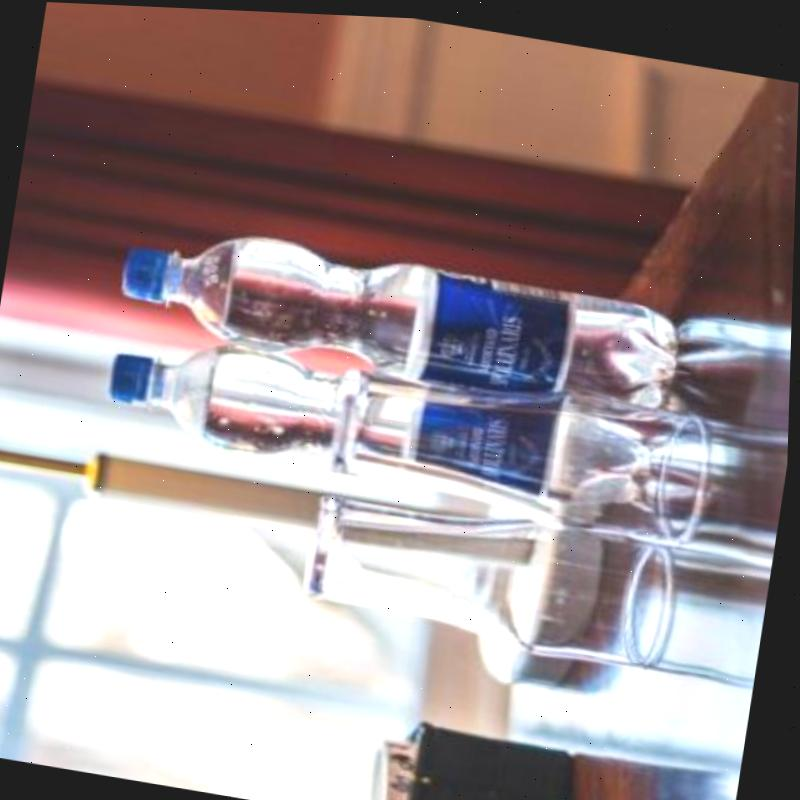botella: (115, 209, 691, 411), (102, 322, 674, 515)
